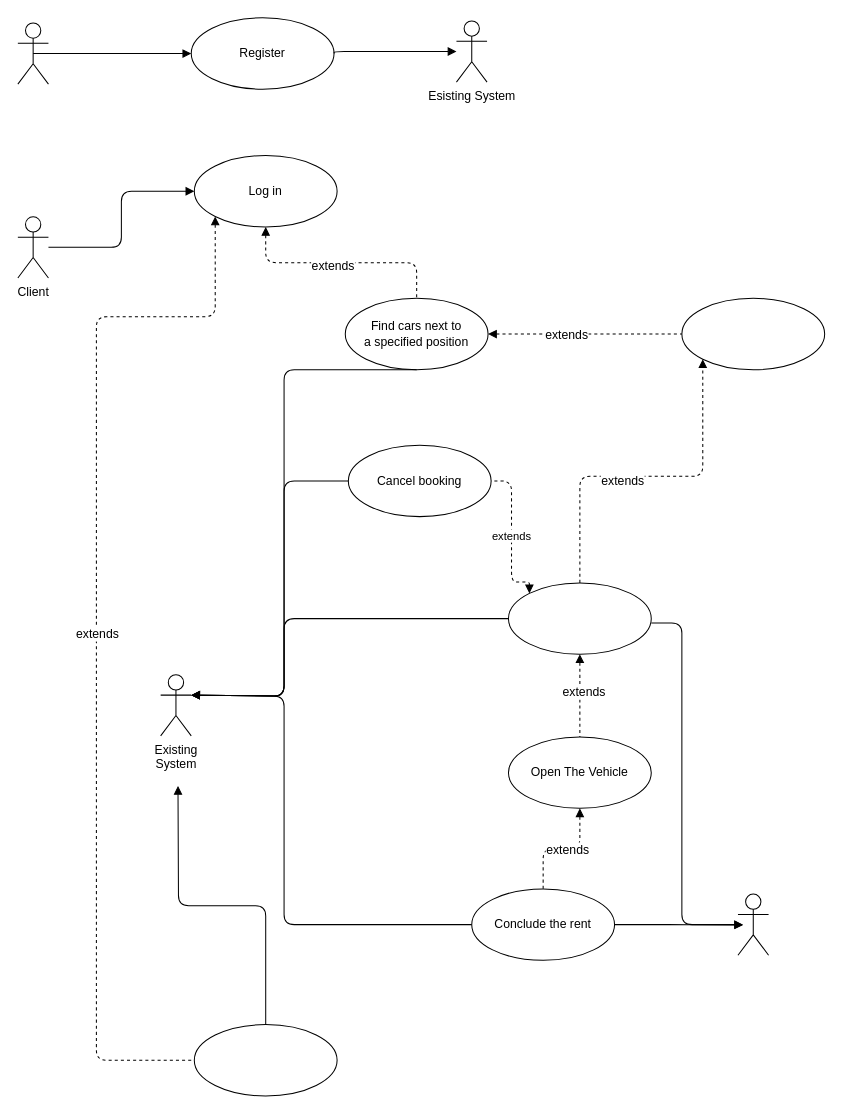
Image size: 843x1114. Some labels were removed from this diagram. Here are the shapes that lost their labels. From the top down, the centre of each, then its label:
the point at 32,53: User
the point at 753,333: Show details
the point at 579,618: Book a vehicle
the point at 753,924: Billing Service
the point at 265,1060: Show Safe Areas
